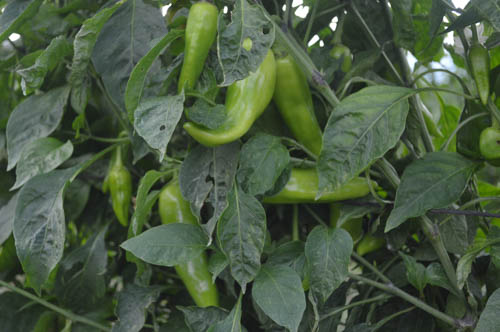ChiliPepper: (183, 53, 278, 158), (165, 180, 220, 314), (278, 52, 326, 157), (261, 169, 377, 211), (179, 5, 215, 97), (113, 166, 134, 231), (470, 43, 492, 104)
